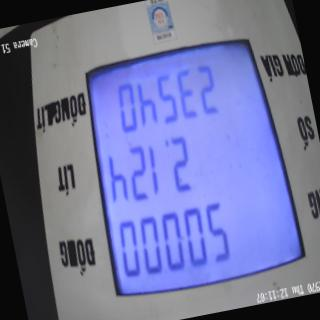screen: (67, 24, 314, 320)
